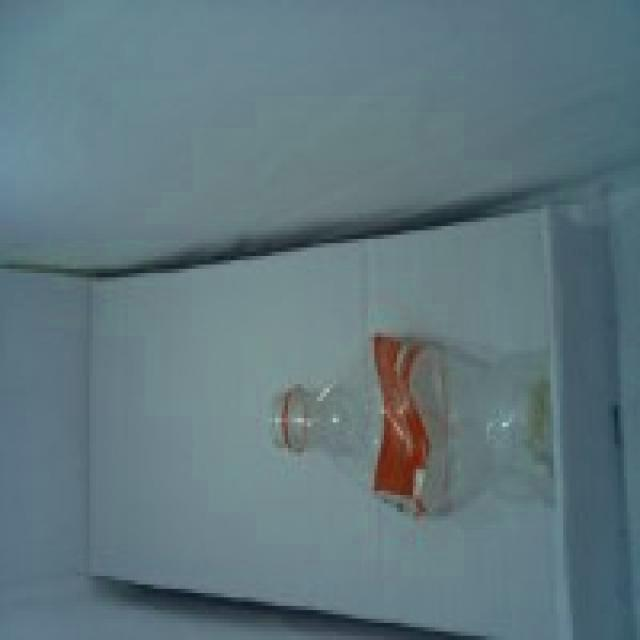bottle: (270, 332, 553, 522)
